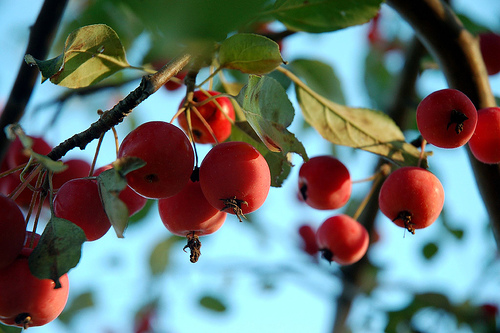apple: (113, 113, 199, 204), (196, 140, 276, 220), (376, 162, 449, 239), (295, 155, 356, 212)
